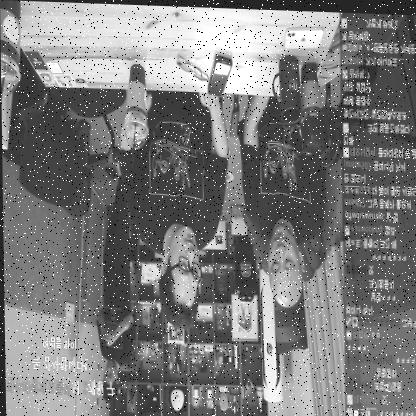donation: (4, 333, 114, 398)
streamer: (115, 88, 230, 333), (240, 93, 325, 306), (93, 145, 136, 403)
